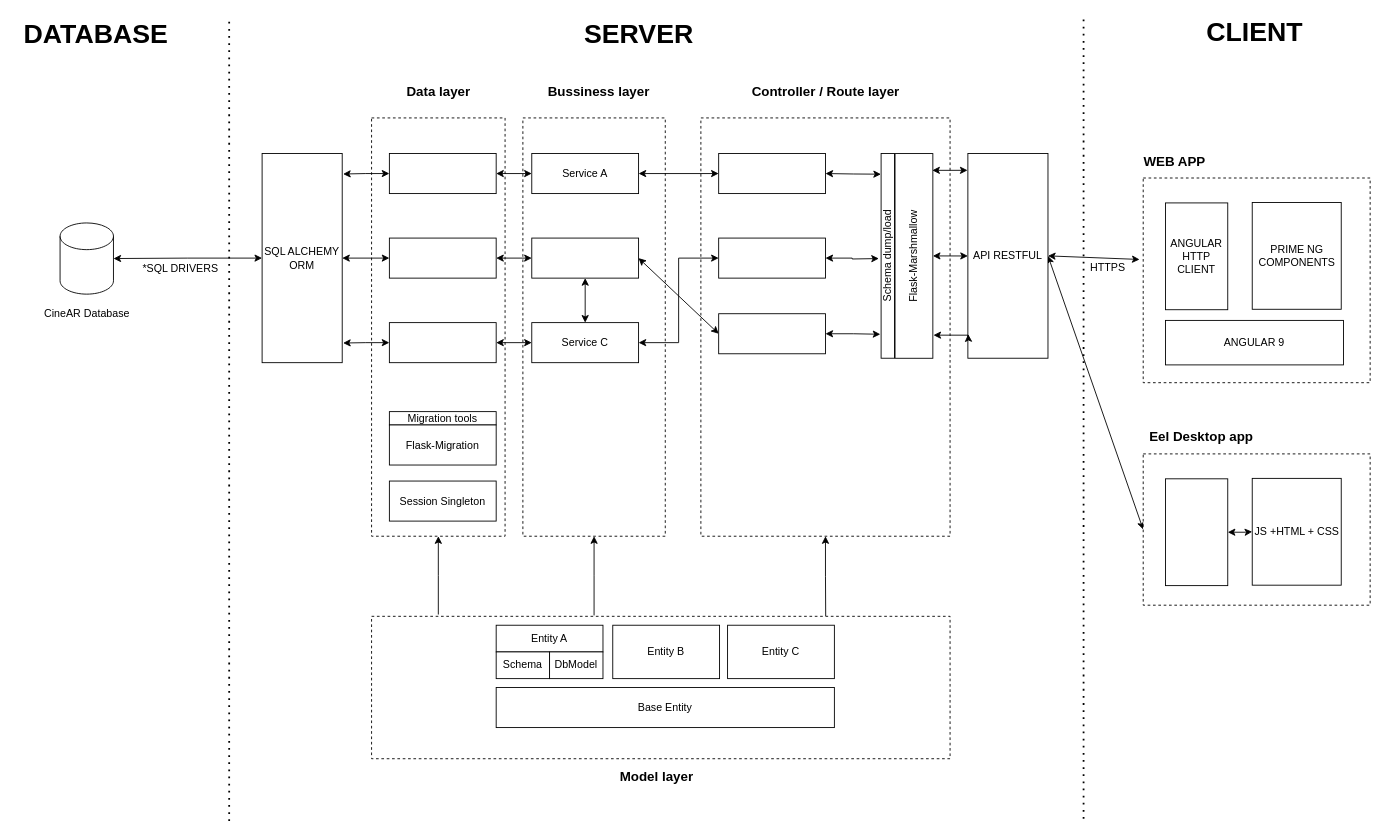
This 1386x838 diagram has some shape labels left out. The shapes that lost their labels are listed below. From the top down, each one's box as (x1, y1, x2, y2) in pixels, then its label:
(388, 153, 496, 194): Repository A
(718, 153, 825, 194): Controller A
(59, 222, 113, 294): MySql
(388, 237, 496, 278): Repository B
(531, 237, 639, 278): Service B
(718, 237, 825, 278): Controller B
(388, 322, 496, 363): Repository C
(718, 313, 825, 354): Controller C
(1165, 478, 1228, 586): Python HTTP Client
